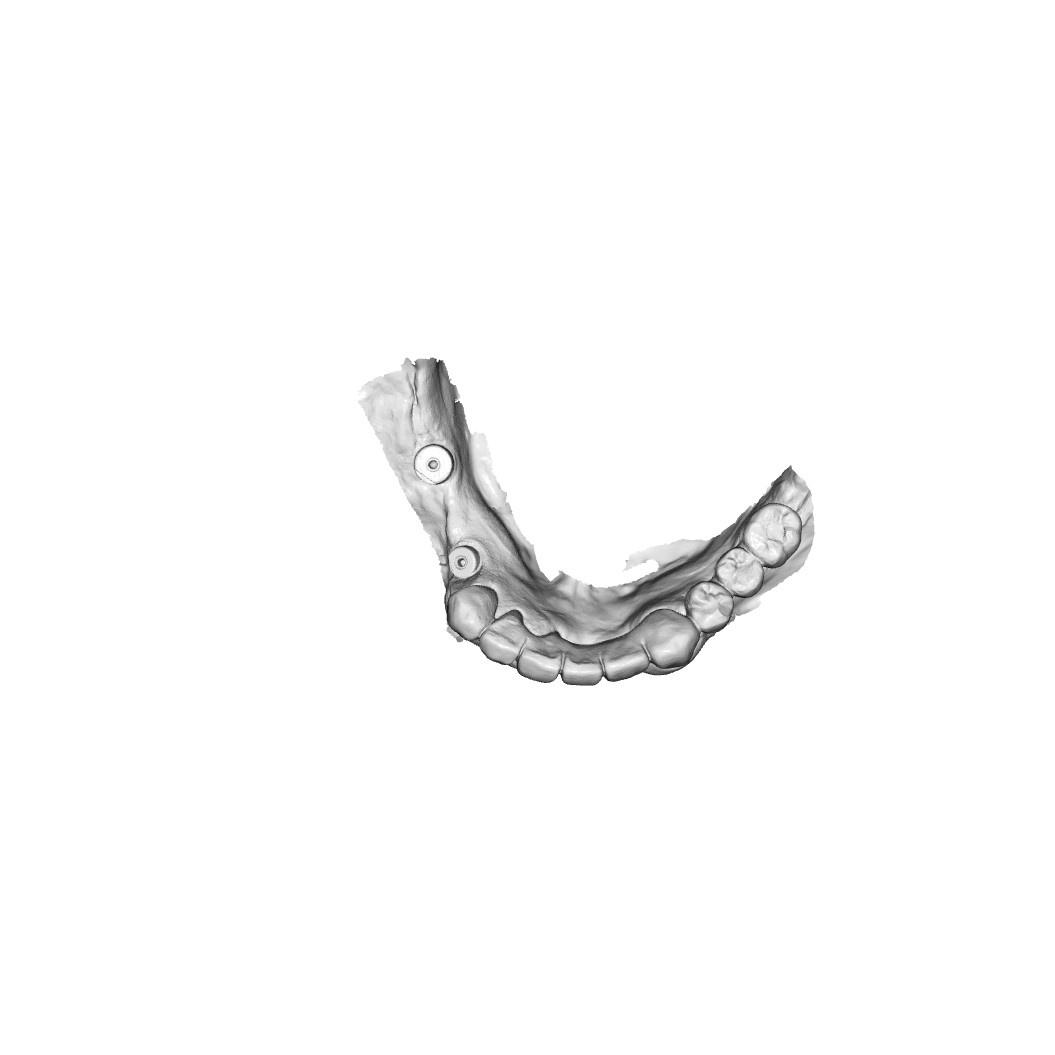canine: (647, 612, 700, 663), (448, 585, 494, 636)
implant: (415, 447, 454, 490), (448, 547, 477, 579)
incisor: (603, 638, 655, 679), (564, 650, 609, 695), (483, 622, 525, 664), (521, 642, 559, 676)
molar: (746, 505, 801, 564)
premolar: (692, 578, 737, 627), (719, 548, 765, 592)
